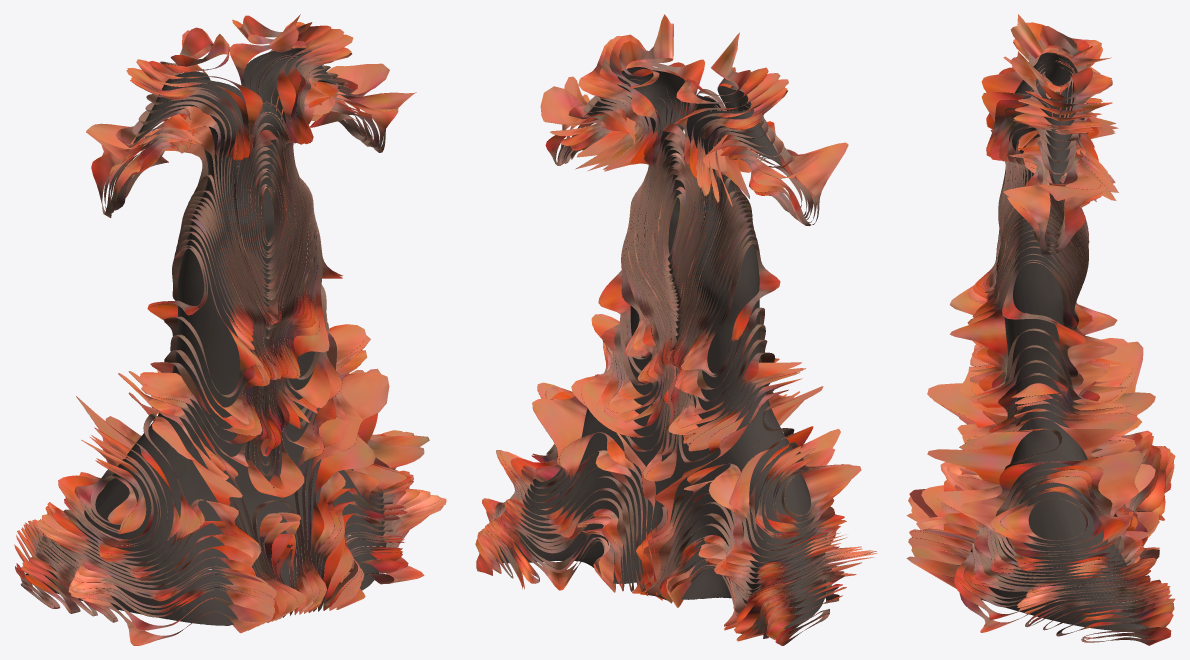
The model's file is morphellum.glb.
3 renders of one model, left to right at view 1: azimuth 30°, elevation 25°; view 2: azimuth 150°, elevation 25°; view 3: azimuth 270°, elevation 25°, orthographic. The views are drawn at different scales.
Parts seen in each view (by area): view 1: OPULANCE-DRESS; view 2: OPULANCE-DRESS; view 3: OPULANCE-DRESS.
Part boxes in pixels (x1,y1,x2,y2): OPULANCE-DRESS: (14, 14, 446, 645); OPULANCE-DRESS: (475, 14, 877, 645); OPULANCE-DRESS: (906, 14, 1175, 645).
Size of the model in its own units: 1.21 by 1.73 by 0.7731.
Materials: 1 (1 with a texture image).
